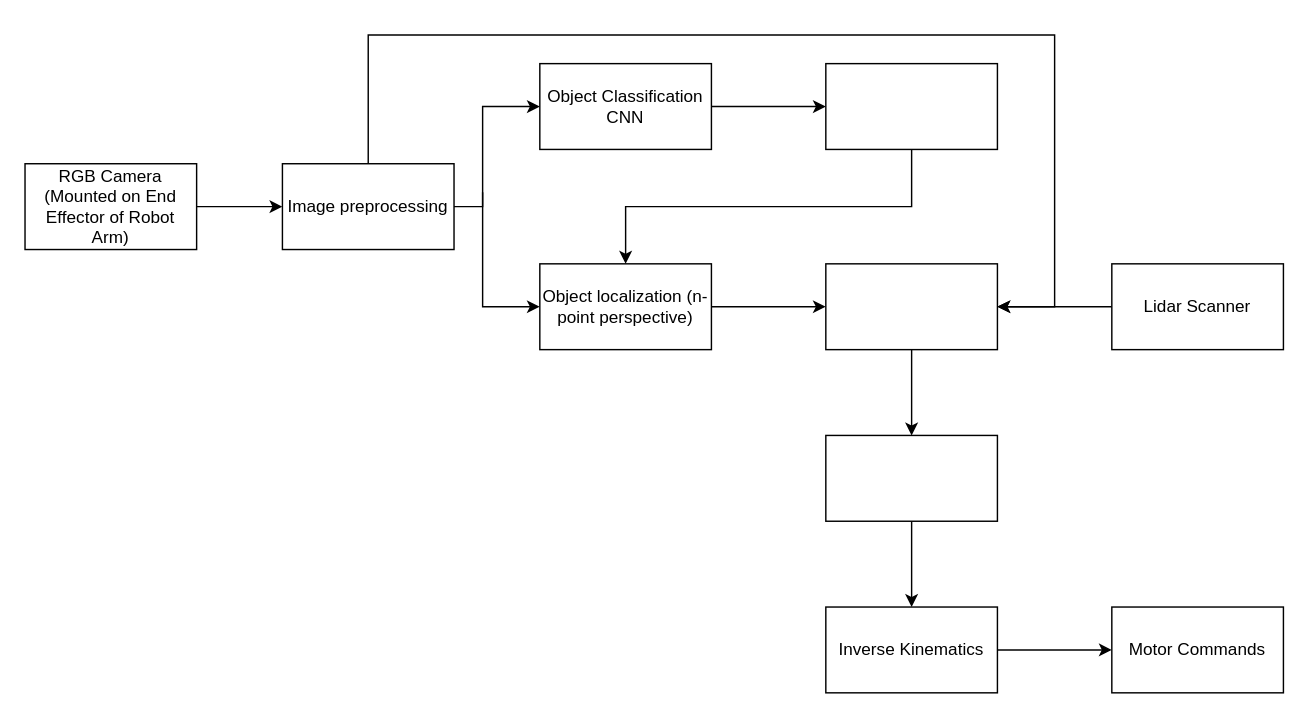
The diagram is 1308 pixels wide and 718 high, and some of its shapes have lost their labels. The shapes that lost their labels are listed below. From the top down, each one's box as (x1, y1, x2, y2) in pixels, then its label:
(824, 62, 997, 149): Object of interest verification
(824, 262, 997, 350): State Estimation
(824, 434, 997, 521): Path Planning
